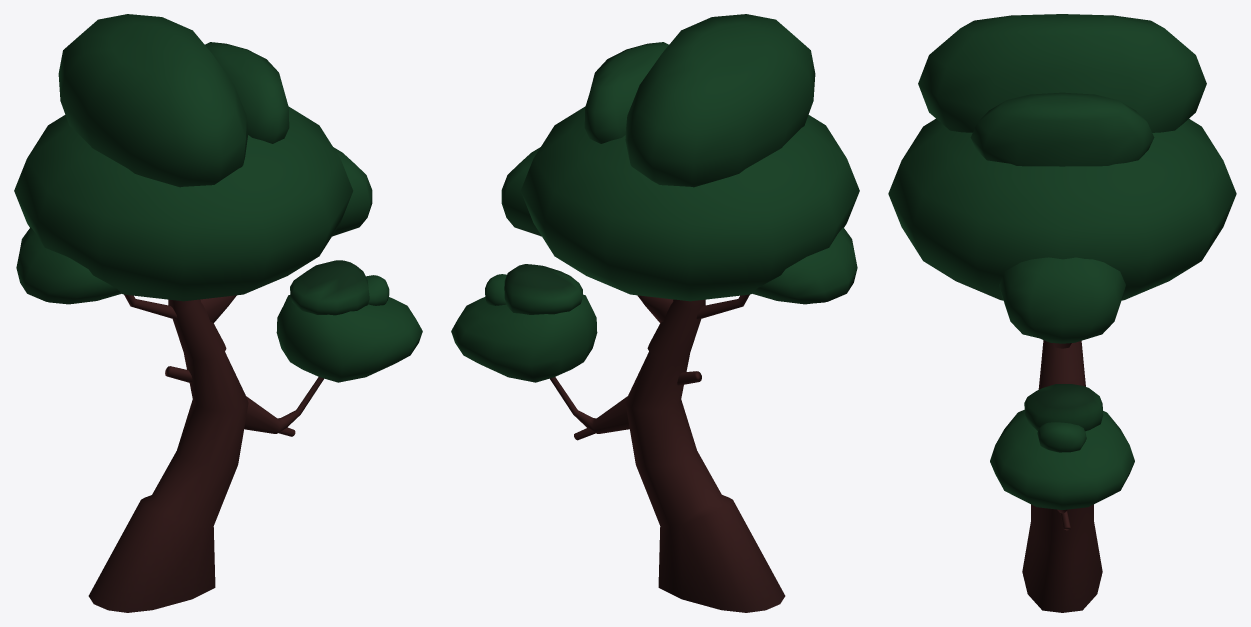
Rendered from Tree_Oak2.fbx.
3 views of the same model, side by side, from view 1: azimuth 30°, elevation 25°; view 2: azimuth 150°, elevation 25°; view 3: azimuth 270°, elevation 25° (orthographic). The views are drawn at different scales.
Parts seen in each view (by area): view 1: Tree_Oak2; view 2: Tree_Oak2; view 3: Tree_Oak2.
Part boxes in pixels (<box>): Tree_Oak2: <box>14,14,422,612</box>; Tree_Oak2: <box>451,14,859,612</box>; Tree_Oak2: <box>888,14,1236,612</box>.
Size of the model in its own units: 8.32 by 11.37 by 6.29.
